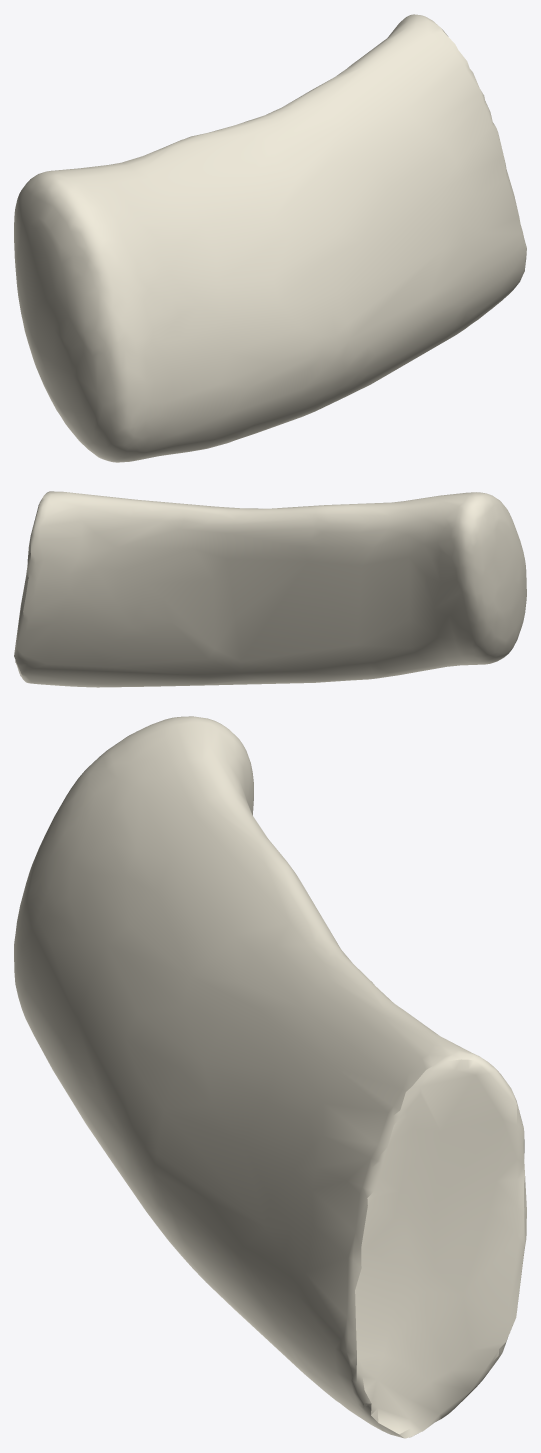
Rendered from fma8058.glb.
3 views of the same model, one above another, from view 1: azimuth 30°, elevation 25°; view 2: azimuth 150°, elevation 25°; view 3: azimuth 270°, elevation 25° (orthographic). The views are drawn at different scales.
Visible parts, largest first — view 1: FMA8058; view 2: FMA8058; view 3: FMA8058.
Part boxes in pixels (left/top/right/bottom): FMA8058: left=14, top=14, right=526, bottom=462; FMA8058: left=14, top=491, right=526, bottom=687; FMA8058: left=14, top=716, right=526, bottom=1438.
Bounding box in the file's own units: 0.0352 × 0.0188 × 0.0217.
